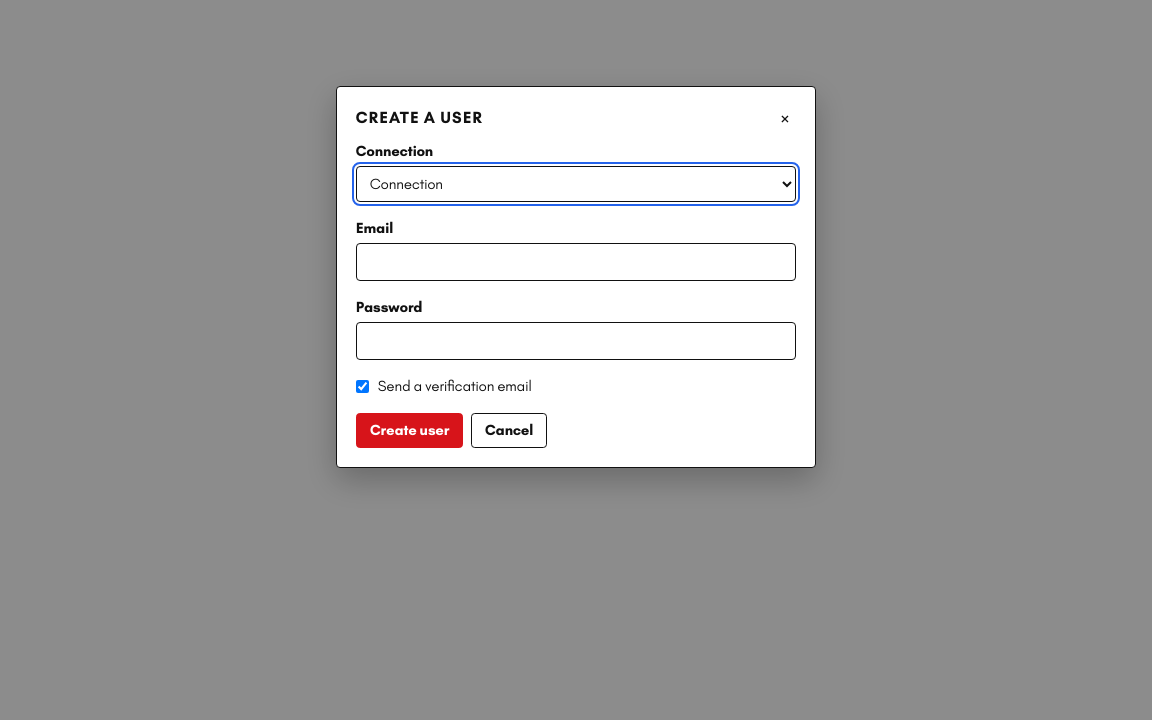
Test: user create › validates before sending
Submit the form, box [356, 140, 796, 448]
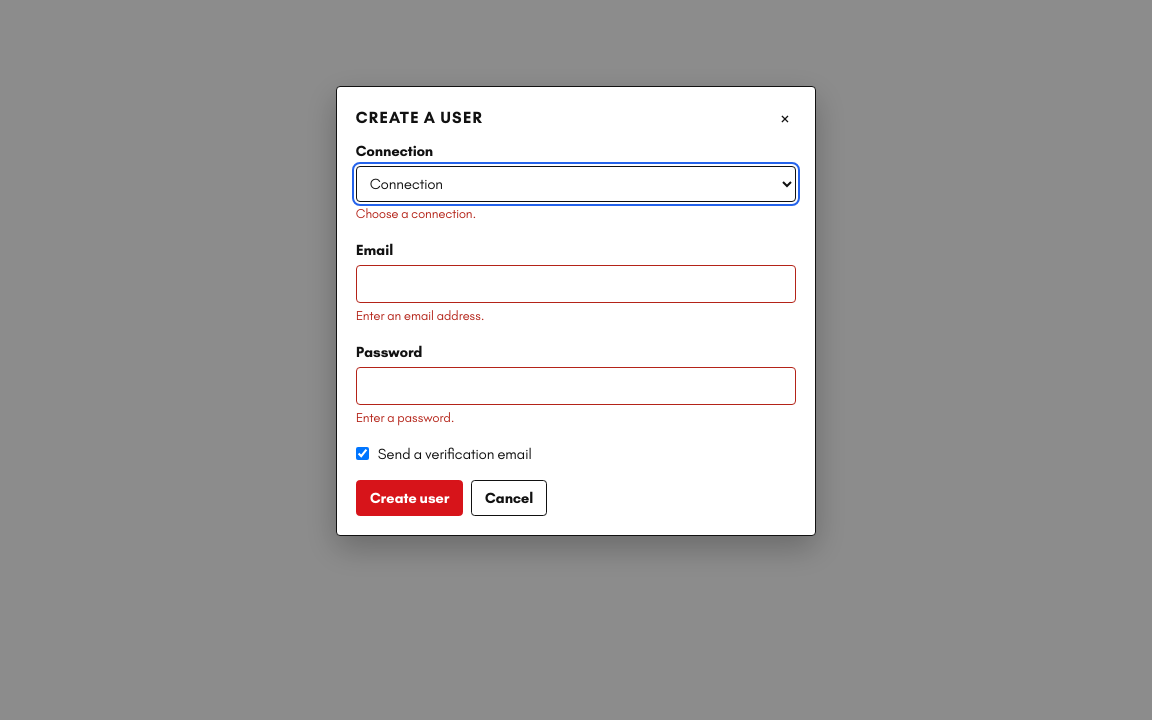
Result: the message with id "user-connection-error" reads "Choose a connection." at [356, 206, 476, 221]
Result: the message with id "user-email-error" reads "Enter an email address." at [356, 308, 485, 323]
Result: the message with id "user-password-error" reads "Enter a password." at [356, 410, 455, 425]
Select "Users c1" in the dropdown with id "user-connection" at (576, 184), box [356, 166, 796, 202]
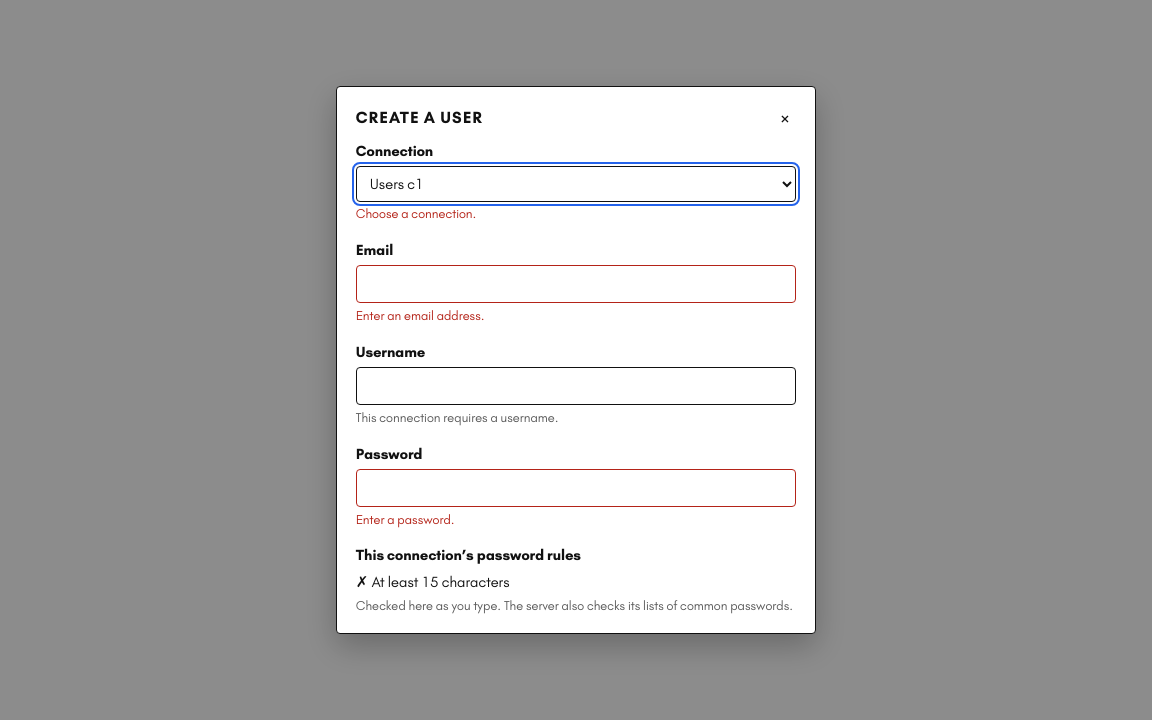
Type "nope" into the field with id "user-email" at (576, 284), box [356, 265, 796, 303]
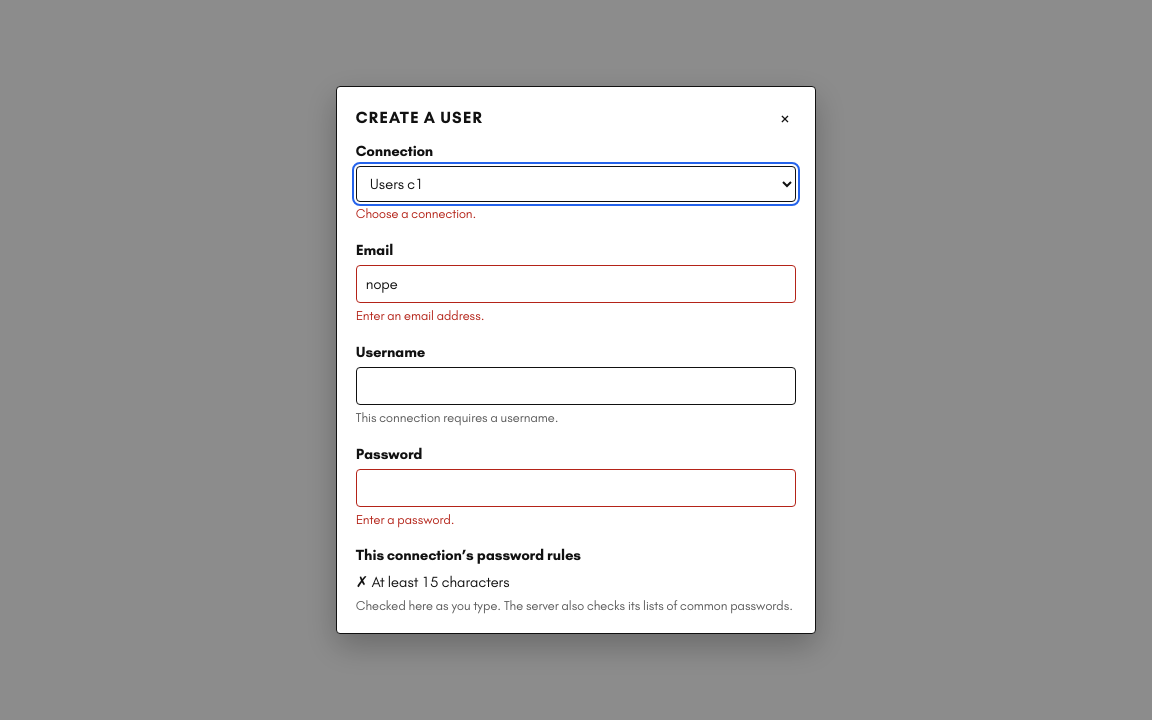
Submit the form, box [356, 140, 796, 704]
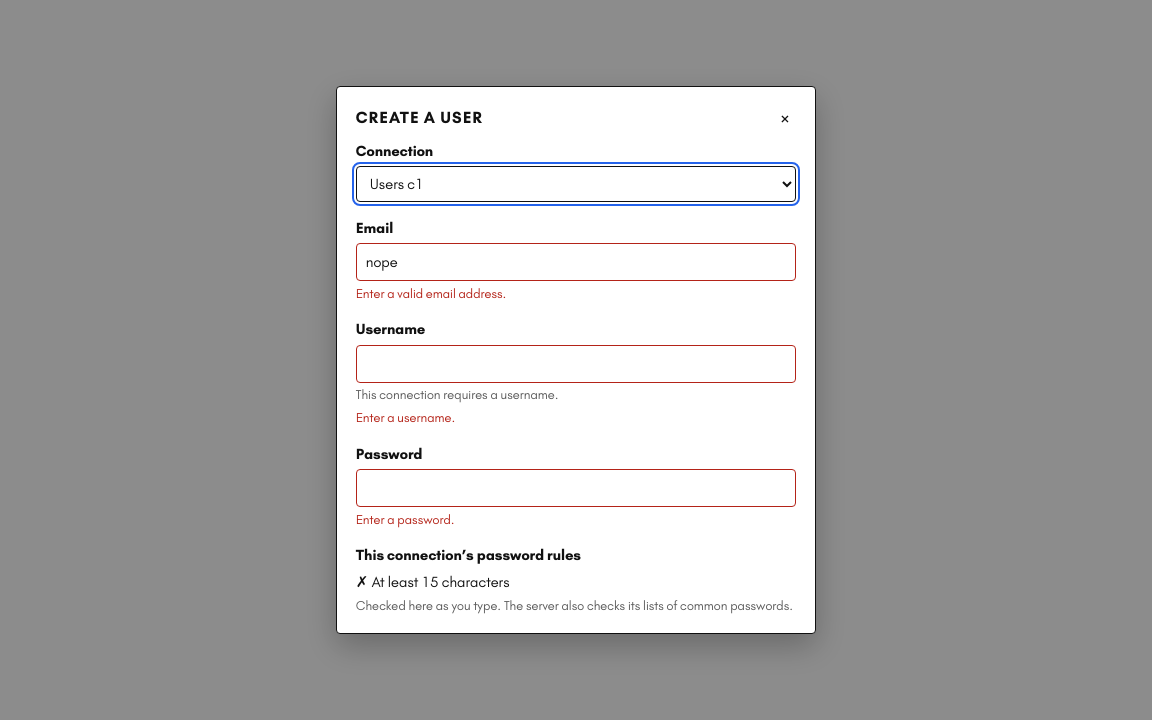
Result: the message with id "user-email-error" reads "Enter a valid email address." at [356, 286, 506, 301]
Result: the message with id "user-username-error" reads "Enter a username." at [356, 410, 455, 425]
